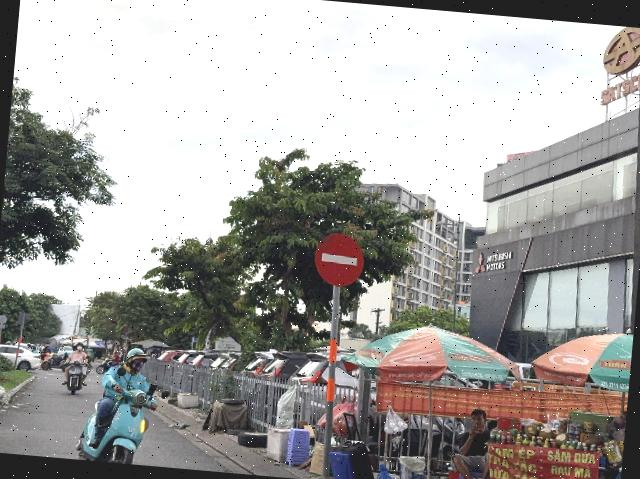cam-di-nguoc-chieu: (312, 230, 366, 288)
